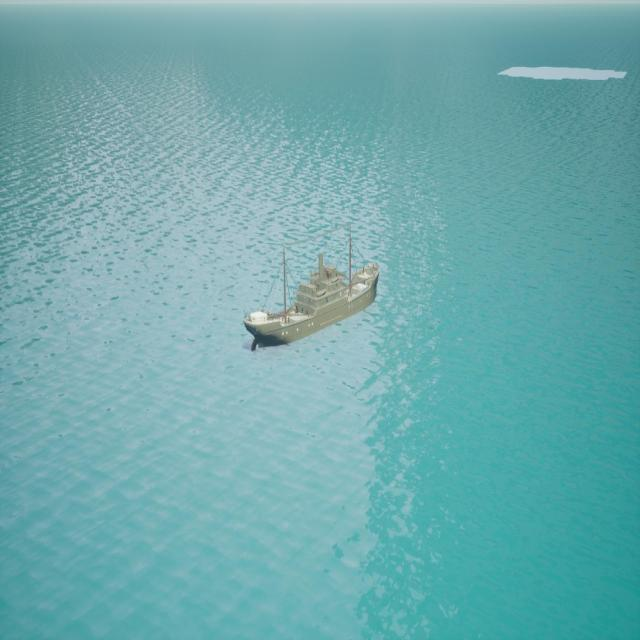fishing ship: (245, 256, 384, 352)
